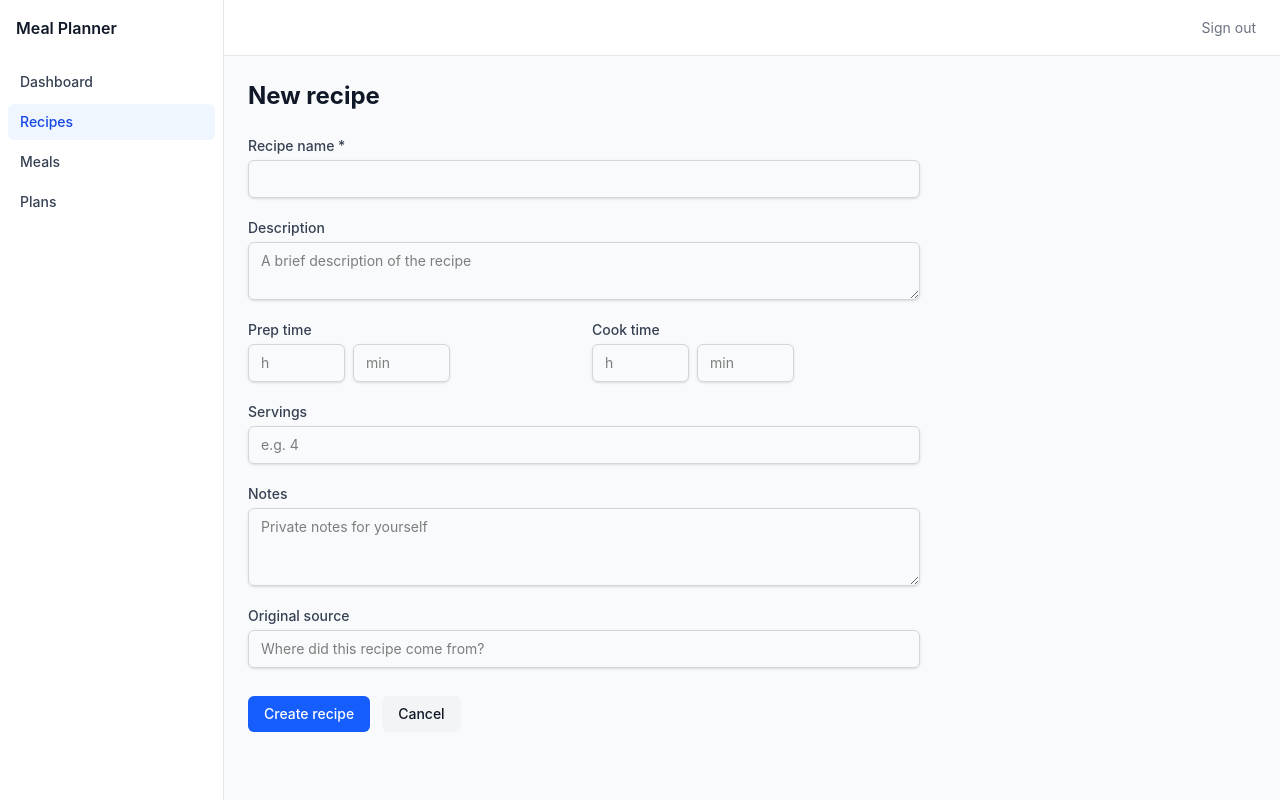
RecipeFormPage (create) › creates recipe and navigates to detail
Expected: the heading "New recipe" is shown, x1=248 y1=80 x2=380 y2=112
Type "My New Recipe" into the field labelled "Recipe name *" at {"x": 584, "y": 179}, box x1=248 y1=160 x2=920 y2=198
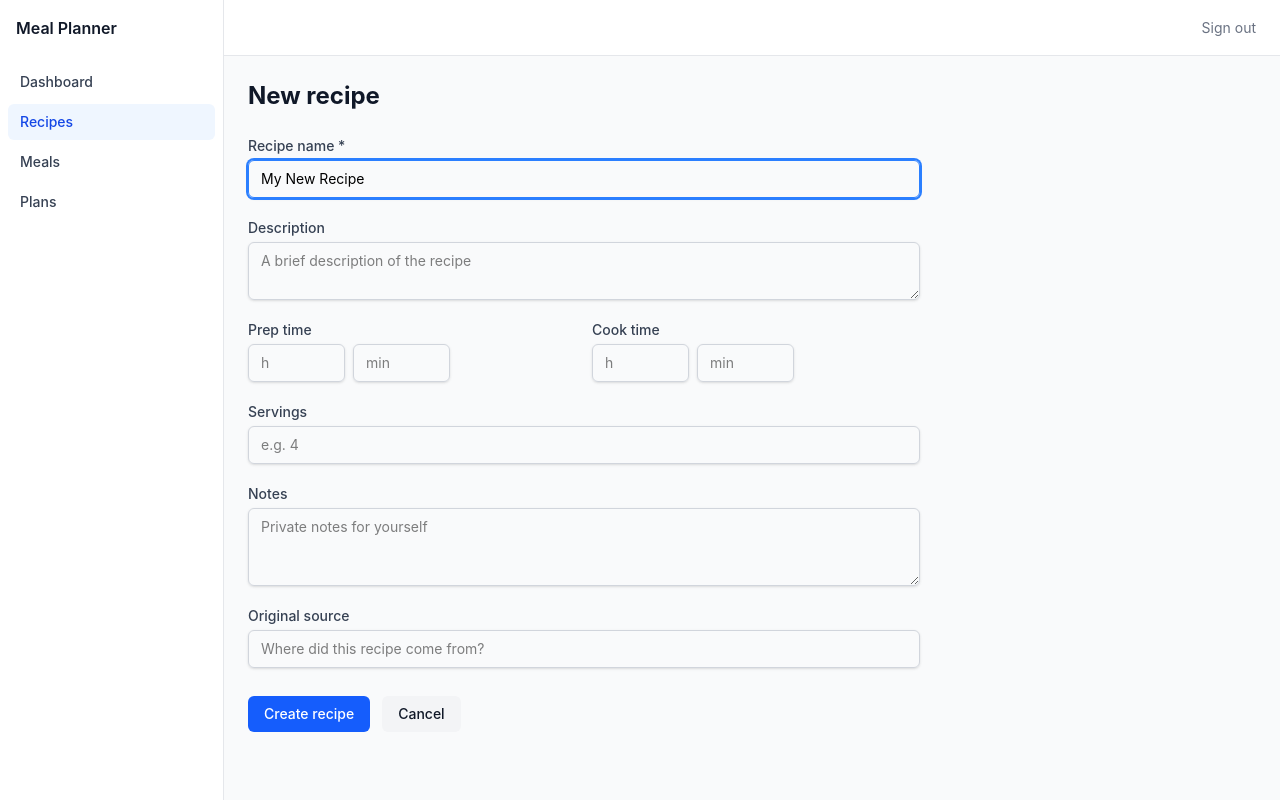
Click the button "Create recipe" at {"x": 309, "y": 714}, box x1=248 y1=696 x2=370 y2=732
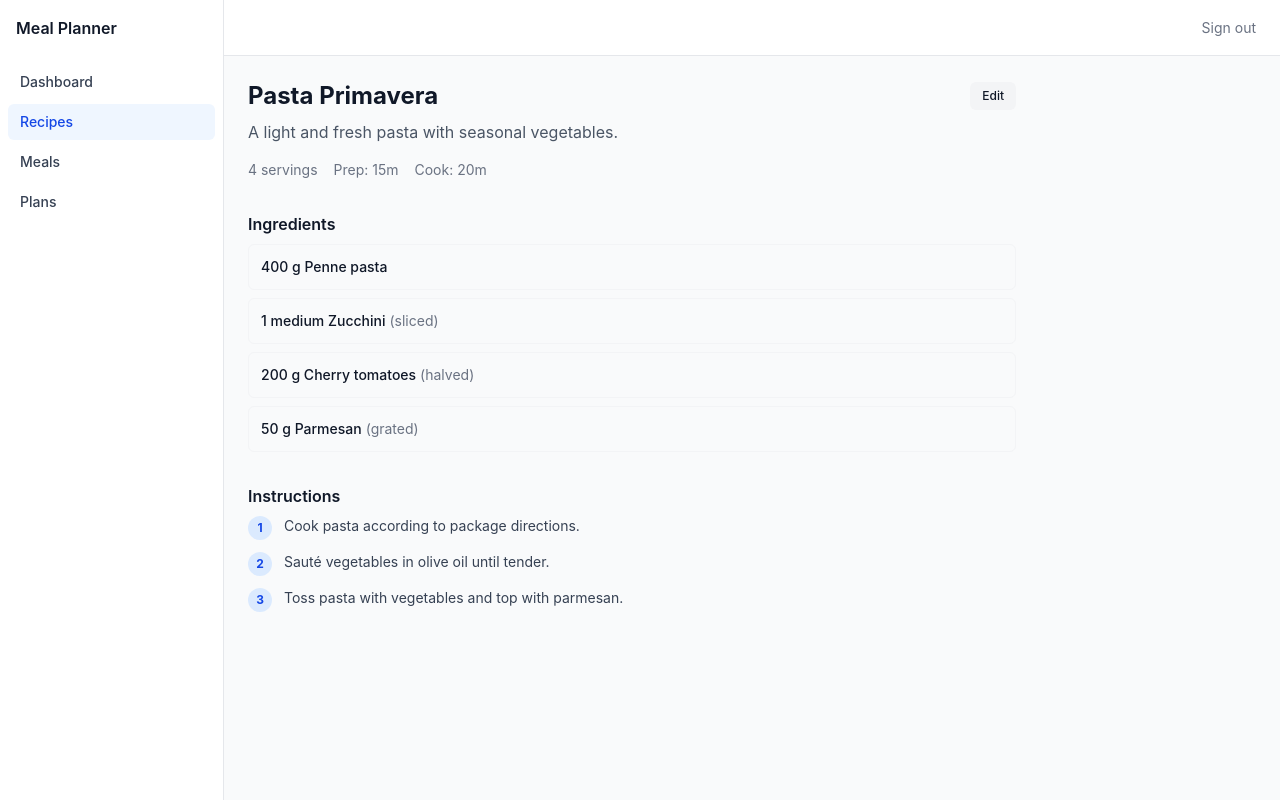
Expected: the heading "New recipe" is gone
